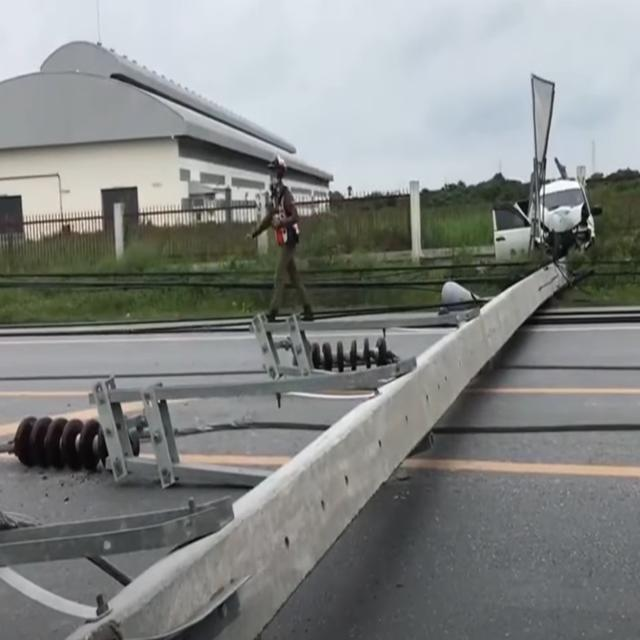Inclined Pole: (0, 256, 571, 640)
